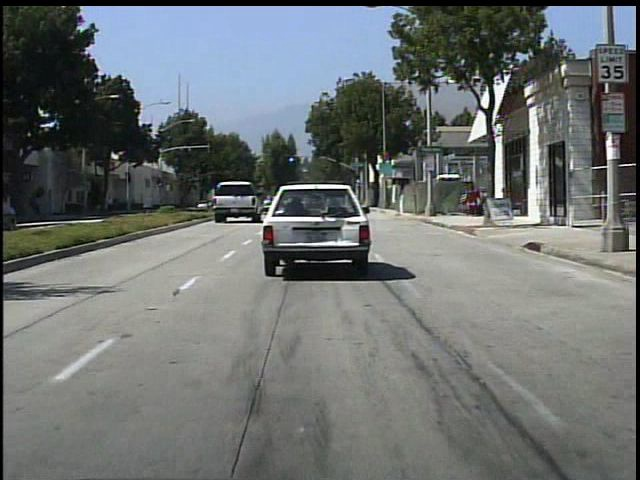person: (31, 195, 50, 226)
